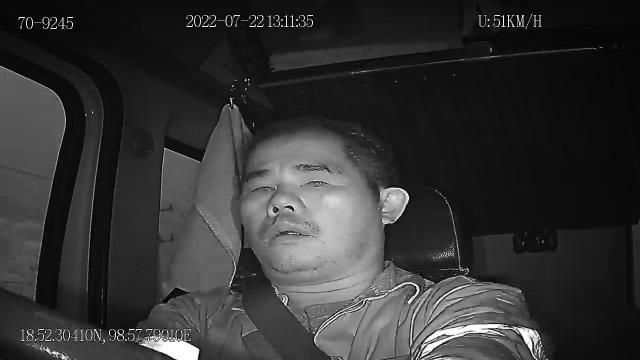SafeDriving: (294, 166, 338, 194), (243, 173, 280, 200)
Seatbelt: (241, 278, 335, 360)
